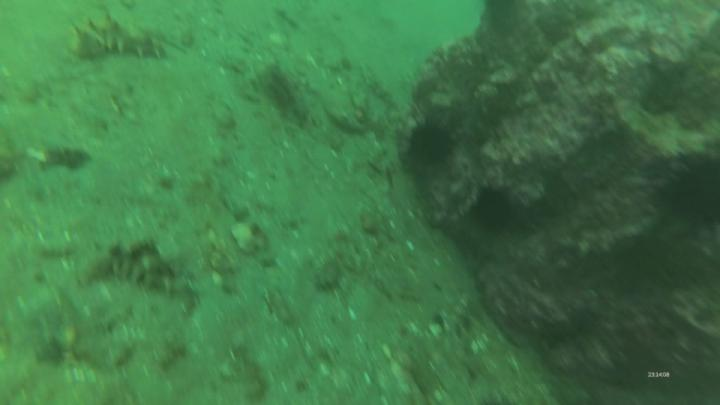echinus: (646, 144, 720, 232), (404, 115, 457, 171), (470, 182, 521, 236)
holothurian: (84, 239, 188, 297), (65, 10, 174, 63)
